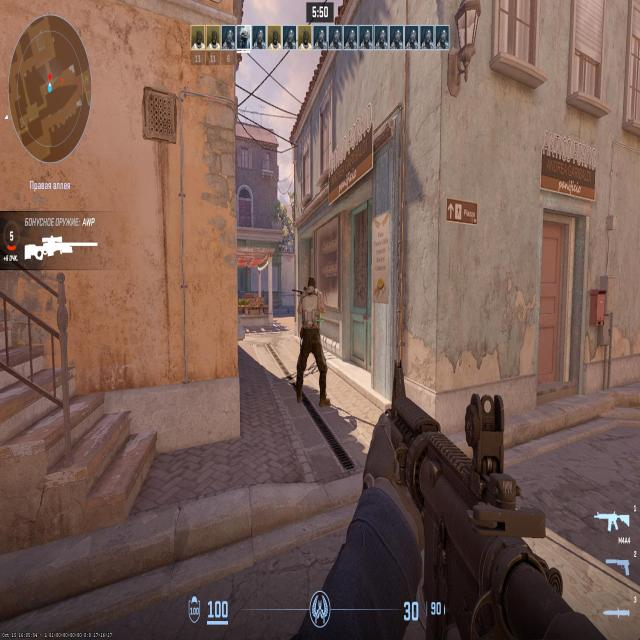T: (300, 281, 328, 411)
T_heat: (310, 280, 316, 293)
